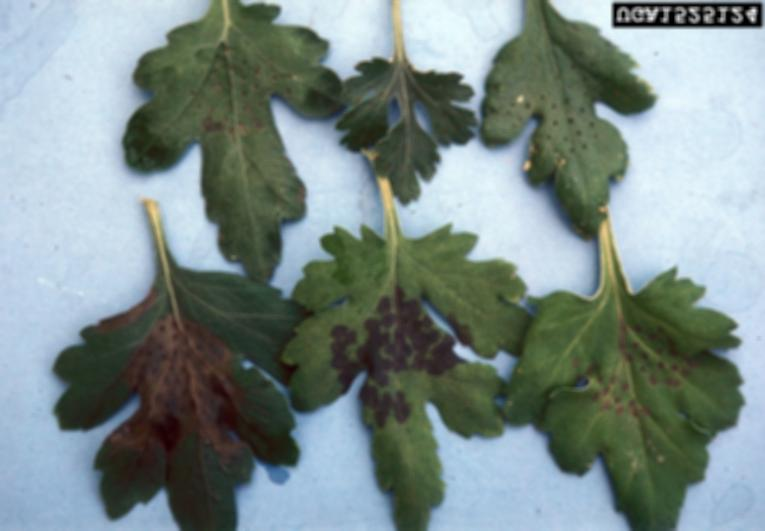Tomato leaf bacterial spot: (494, 226, 743, 527), (113, 12, 360, 299), (478, 14, 680, 263), (339, 22, 480, 201)
